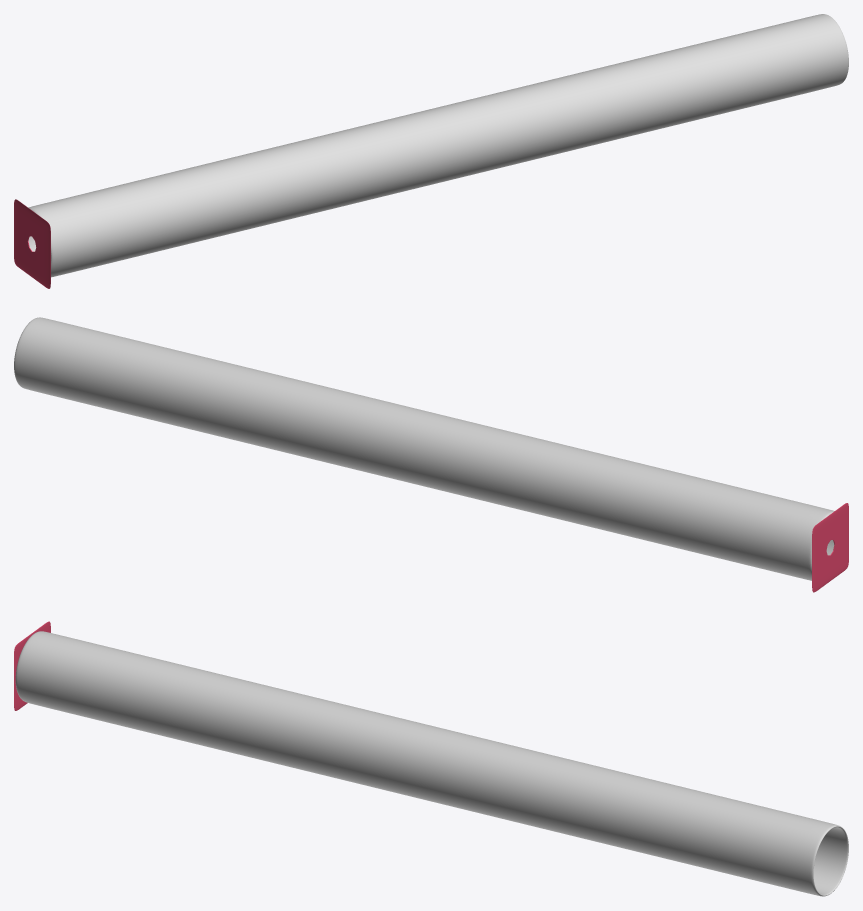
Rendered from f-number.glb.
3 views of the same model, one above another, from view 1: azimuth 30°, elevation 25°; view 2: azimuth 150°, elevation 25°; view 3: azimuth 330°, elevation 25° (orthographic).
Parts seen in each view (by area): view 1: Tube, pinhole; view 2: Tube, pinhole; view 3: Tube, pinhole.
Boxes of the visible parts, x1,y1,x2,y2 form: Tube: [28, 14, 848, 277]; pinhole: [14, 199, 50, 288]; Tube: [14, 317, 834, 580]; pinhole: [812, 503, 848, 592]; Tube: [15, 631, 848, 896]; pinhole: [14, 621, 50, 710].
Size of the model in its own units: 1 by 0.08 by 0.08.
